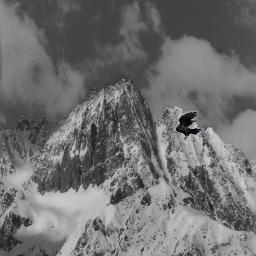Crow: (175, 111, 202, 140)
